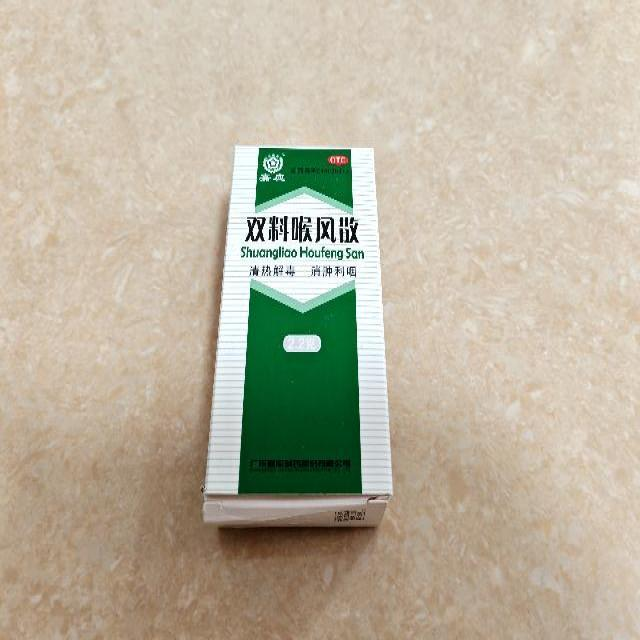box: (201, 143, 393, 529)
